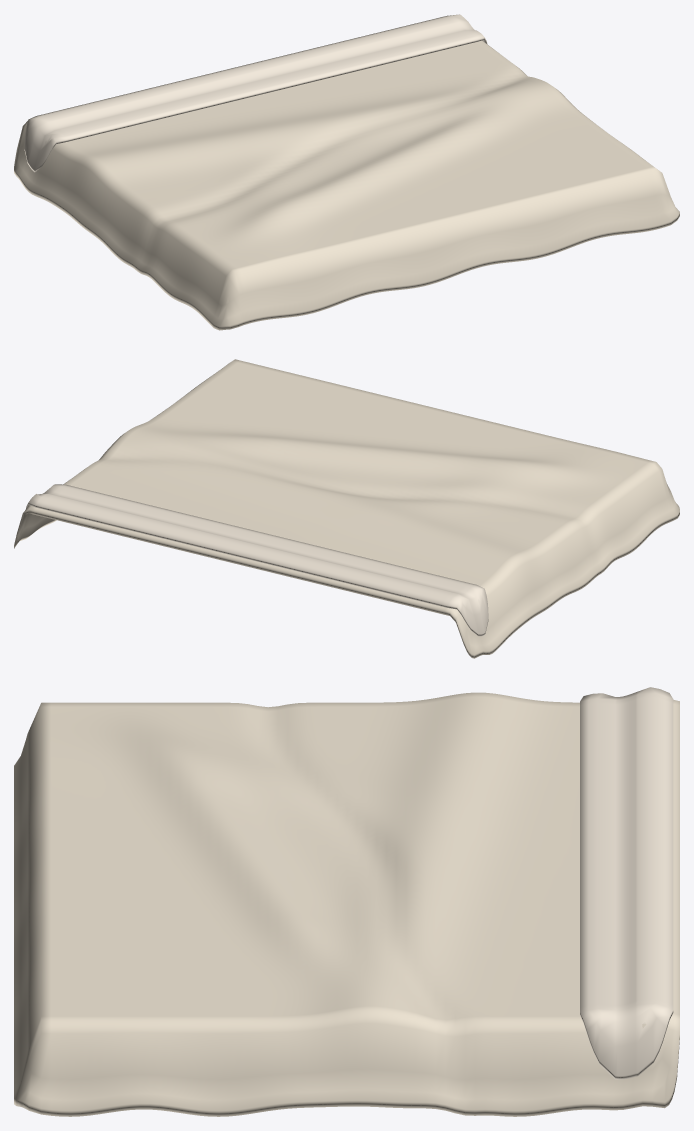
Rendered from duvet-y83b33-v1.glb.
3 renders of one model, top to bottom at view 1: azimuth 30°, elevation 25°; view 2: azimuth 150°, elevation 25°; view 3: azimuth 270°, elevation 25°, orthographic. The views are drawn at different scales.
Parts seen in each view (by area): view 1: Draped filled duvet, Folded head hem; view 2: Draped filled duvet, Folded head hem; view 3: Draped filled duvet, Folded head hem.
Boxes of the visible parts, x1,y1,x2,y2 form: Draped filled duvet: (14,40,679,330); Folded head hem: (24,14,487,172); Draped filled duvet: (14,359,679,658); Folded head hem: (25,484,488,636); Draped filled duvet: (14,692,679,1116); Folded head hem: (580,687,673,1079).
Bounding box in the file's own units: 1.94 × 0.245 × 1.56.
